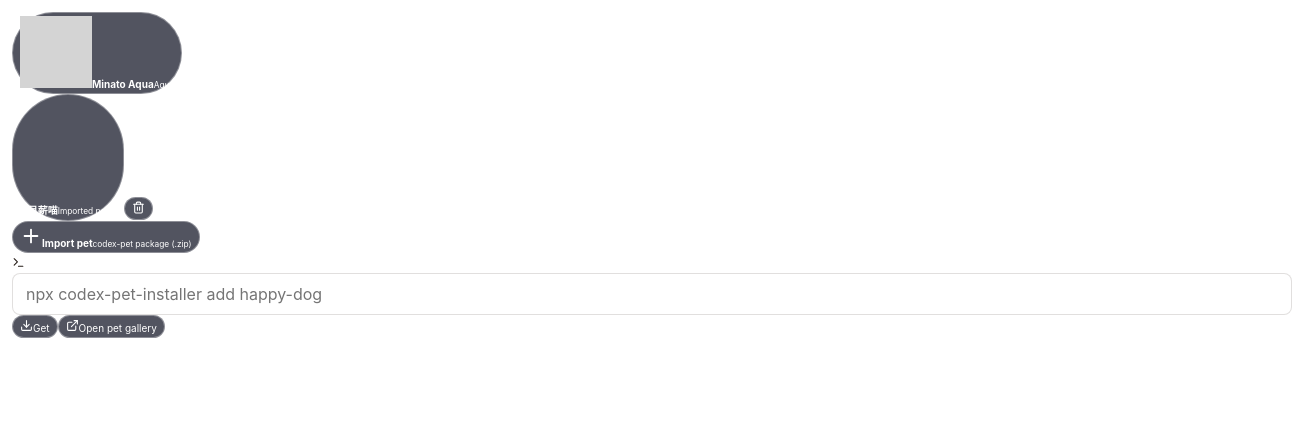
Scenario: PetThemeGrid removal › preserves the selected theme when removal fails and surfaces the error
Click the button named "Remove" at (138, 208), box [124,197,153,220]
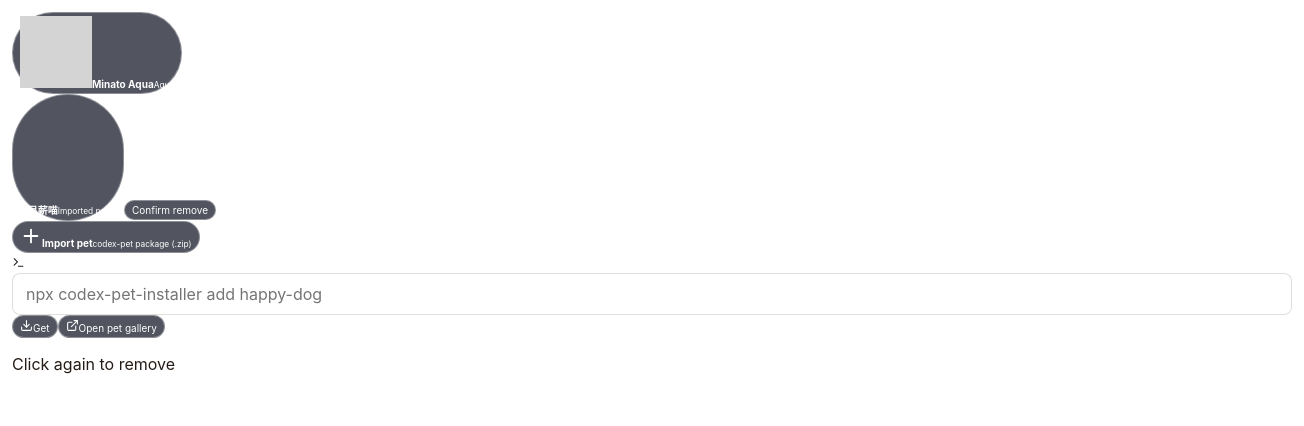
Click the button "Confirm remove" at (170, 210), box [124,200,216,220]
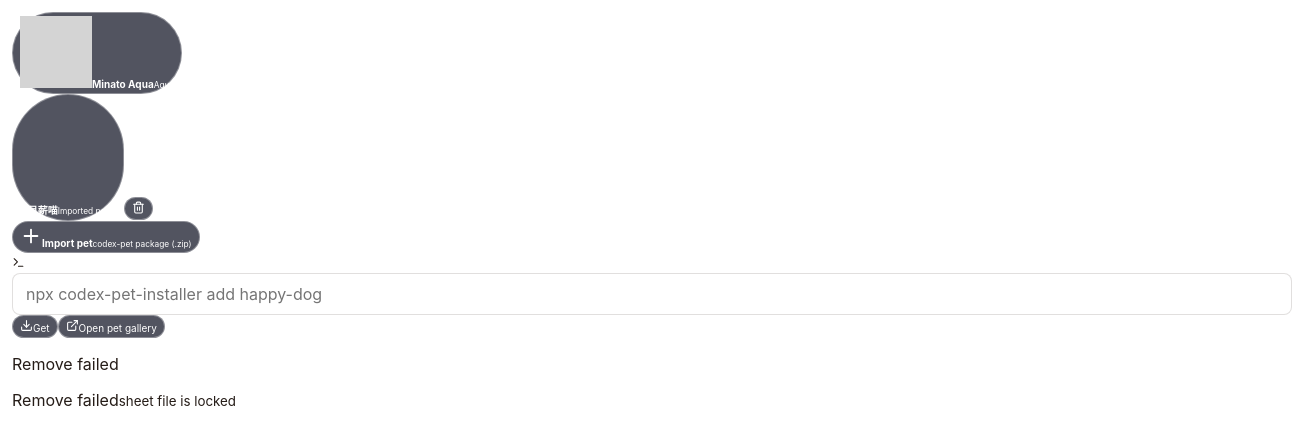
Expected: the text "sheet file is locked" is shown, [119,393,236,409]
